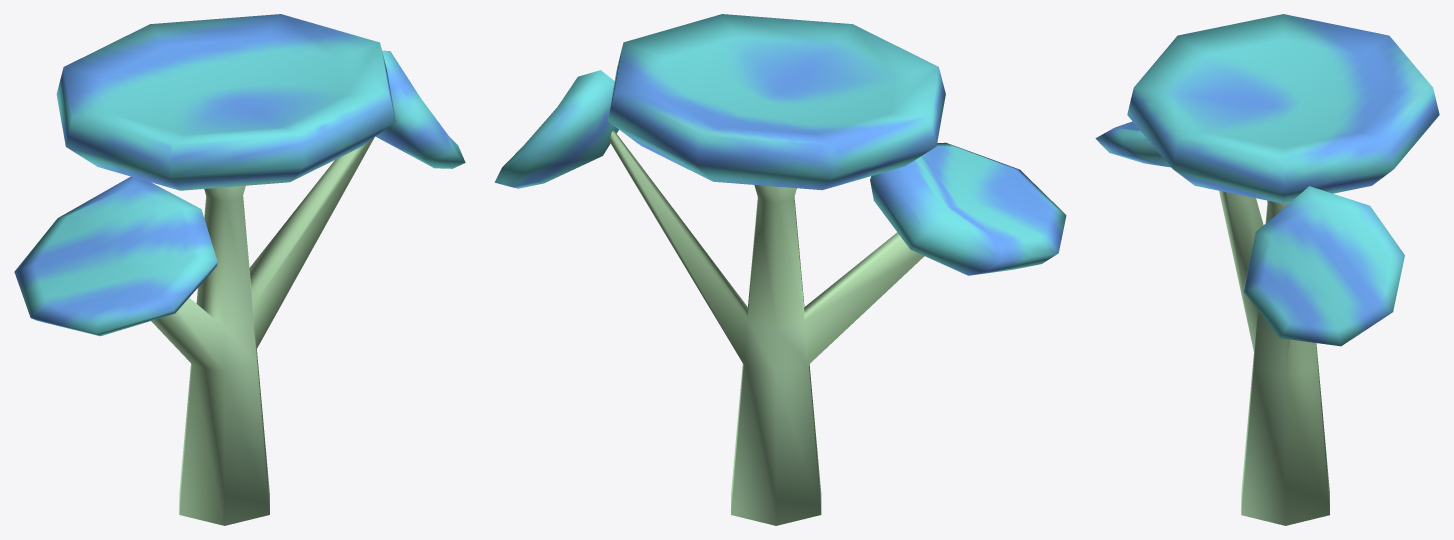
The model's file is ShroomPlantState02.gltf.
3 views of the same model, side by side, from view 1: azimuth 30°, elevation 25°; view 2: azimuth 150°, elevation 25°; view 3: azimuth 270°, elevation 25° (orthographic).
Visible parts, largest first — view 1: ShroomPlantV3BlossomMiddle, ShroomPlantV3Stem, ShroomPlantV3BlossomLeft, ShroomPlantV3BlossomRight; view 2: ShroomPlantV3BlossomMiddle, ShroomPlantV3Stem, ShroomPlantV3BlossomLeft, ShroomPlantV3BlossomRight; view 3: ShroomPlantV3BlossomMiddle, ShroomPlantV3BlossomRight, ShroomPlantV3Stem, ShroomPlantV3BlossomLeft.
Part boxes in pixels (bbox=[...]): ShroomPlantV3BlossomMiddle: bbox=[56, 14, 395, 190]; ShroomPlantV3Stem: bbox=[151, 137, 374, 525]; ShroomPlantV3BlossomLeft: bbox=[14, 176, 217, 336]; ShroomPlantV3BlossomRight: bbox=[376, 50, 465, 168]; ShroomPlantV3BlossomMiddle: bbox=[607, 14, 945, 190]; ShroomPlantV3Stem: bbox=[609, 131, 924, 525]; ShroomPlantV3BlossomLeft: bbox=[870, 142, 1066, 275]; ShroomPlantV3BlossomRight: bbox=[494, 70, 618, 188]; ShroomPlantV3BlossomMiddle: bbox=[1127, 14, 1439, 203]; ShroomPlantV3BlossomRight: bbox=[1244, 186, 1404, 346]; ShroomPlantV3Stem: bbox=[1219, 190, 1329, 525]; ShroomPlantV3BlossomLeft: bbox=[1095, 121, 1170, 167].
Bounding box in the file's own units: 1.38 × 1.16 × 0.8674.
1 material, 1 textured.
